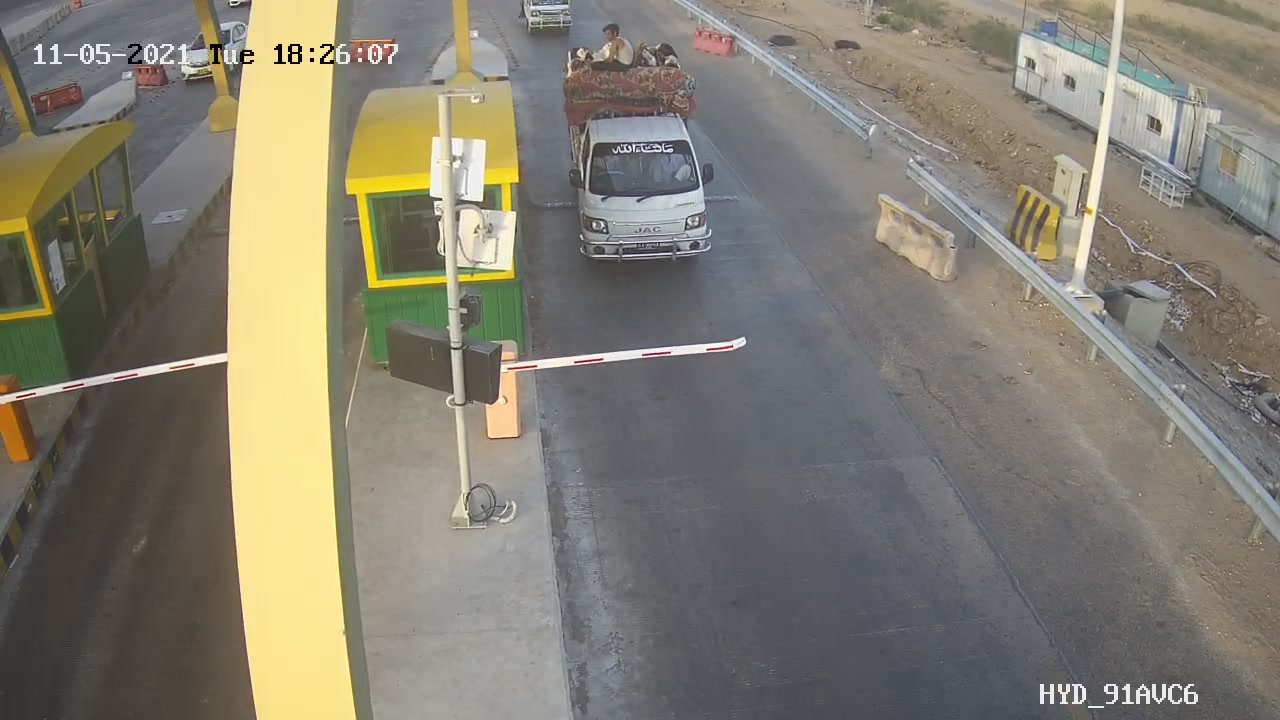F2: (555, 66, 729, 272)
